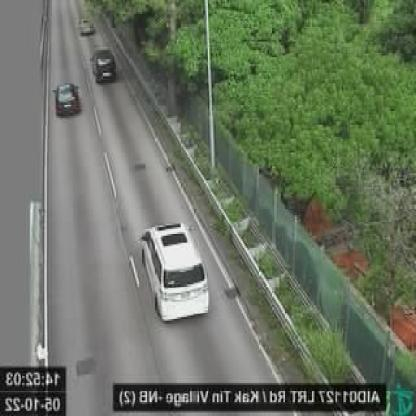Car: (144, 222, 209, 322), (92, 47, 120, 85), (54, 83, 80, 116), (80, 17, 96, 33)
